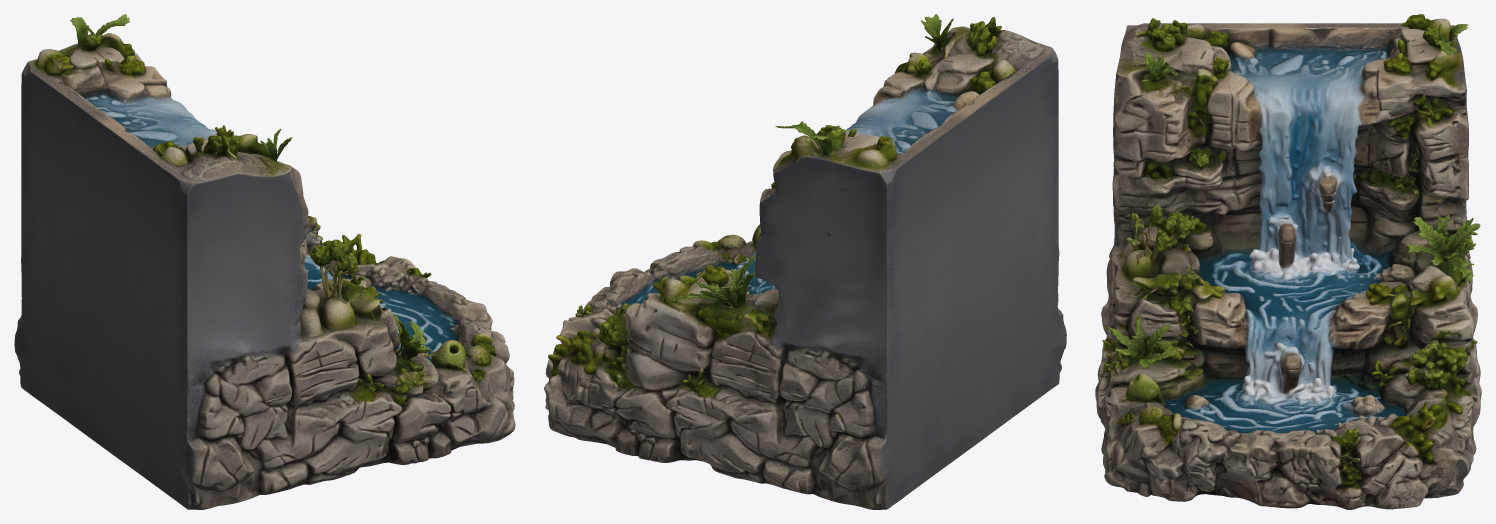
The model's file is waterfall.glb.
The picture shows the model from 3 angles, left to right: view 1: azimuth 30°, elevation 25°; view 2: azimuth 150°, elevation 25°; view 3: azimuth 270°, elevation 25°; orthographic projection. The views are drawn at different scales.
Bounding box in the file's own units: 0.9998 × 0.9214 × 0.9342.
Materials: 1 (1 with a texture image).
